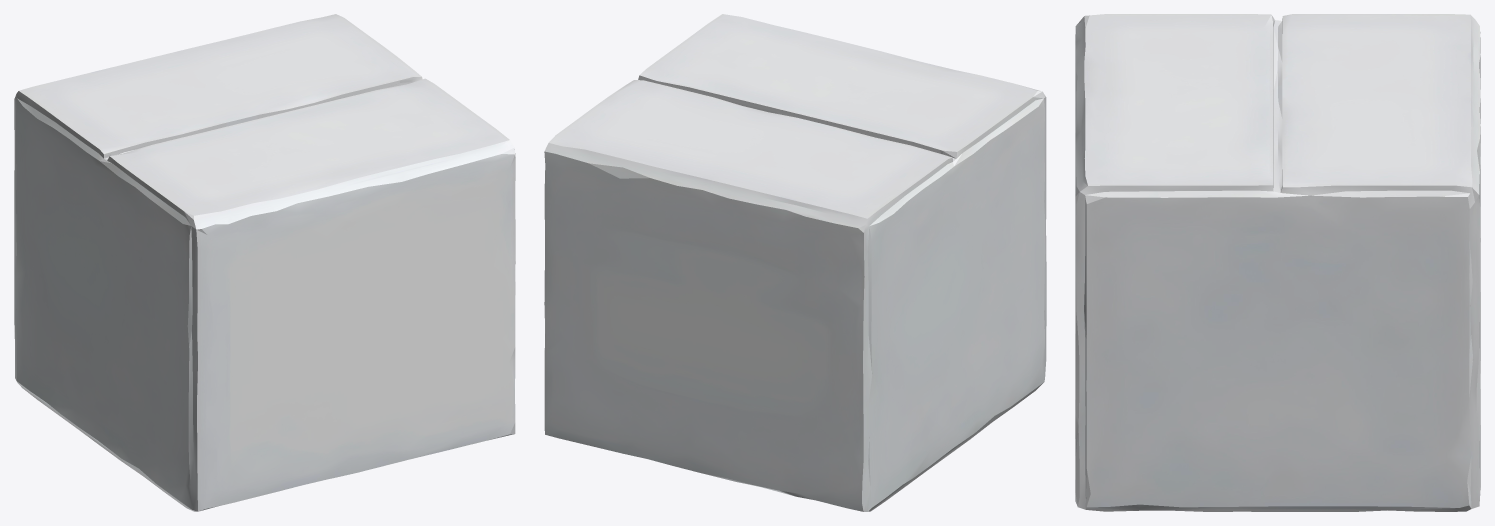
The model's file is kardusPutih.fbx.
3 views of the same model, side by side, from view 1: azimuth 30°, elevation 25°; view 2: azimuth 150°, elevation 25°; view 3: azimuth 270°, elevation 25° (orthographic). The views are drawn at different scales.
Visible parts, largest first — view 1: Mesh.008; view 2: Mesh.008; view 3: Mesh.008.
Part boxes in pixels (x1,y1,x2,y2): Mesh.008: [14, 14, 515, 511]; Mesh.008: [544, 14, 1046, 511]; Mesh.008: [1075, 14, 1480, 511].
Bounding box in the file's own units: 175 × 151 × 170.
Materials: 1 (1 with a texture image).
